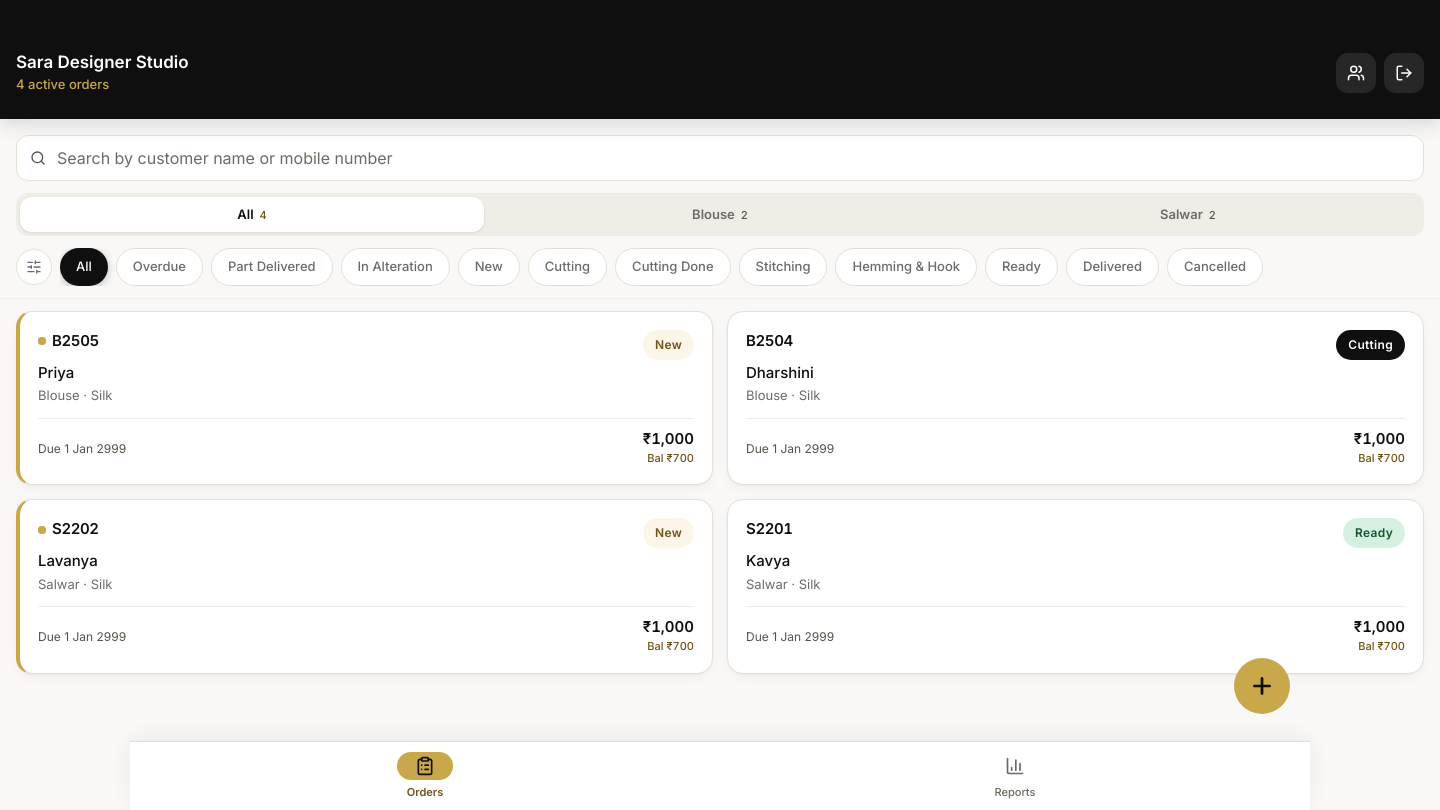
it: OrdersBody › Blouse / Salwar tabs › narrows to one book when its tab is selected
Click the tab "Salwar2".
click(1188, 215)  # box [956, 197, 1420, 232]
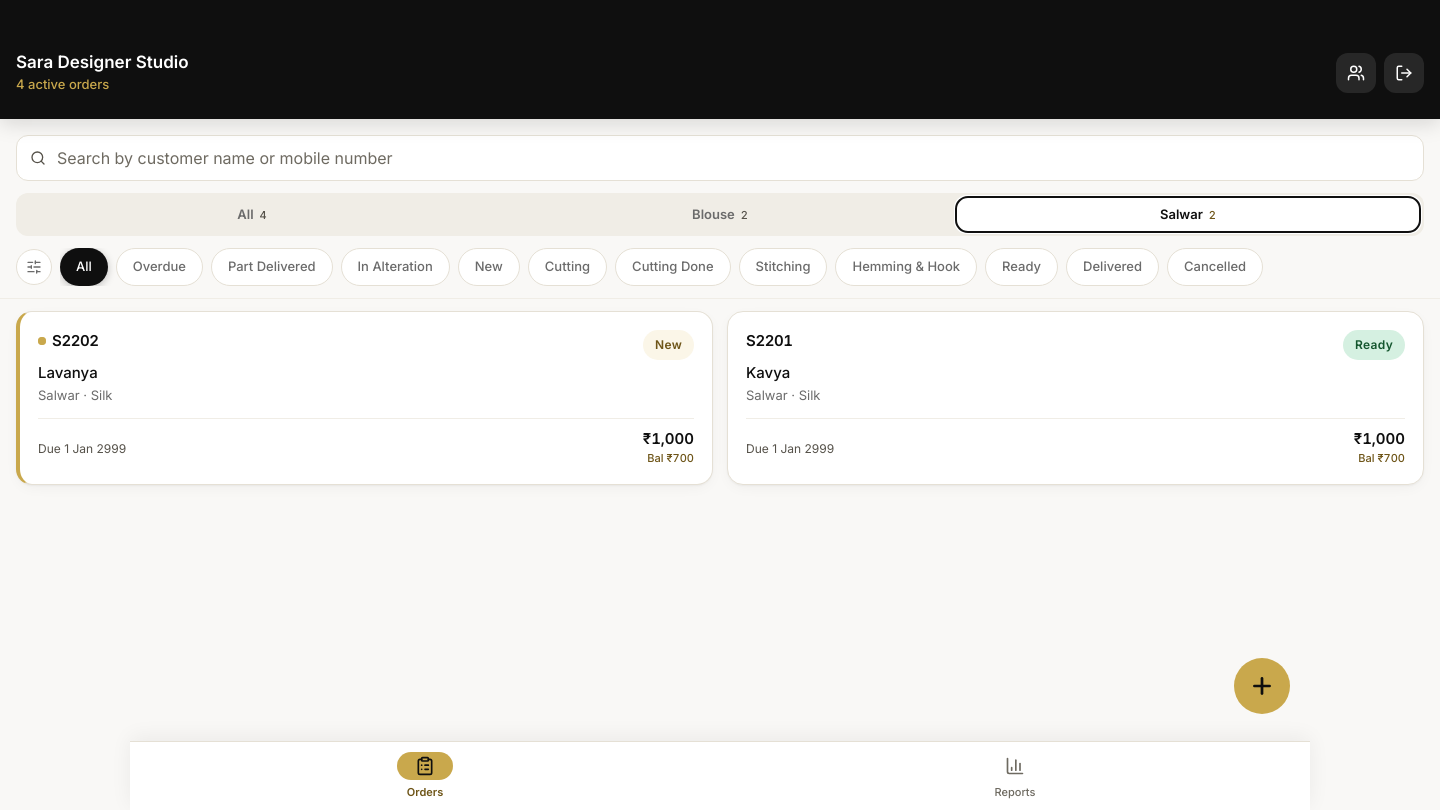
Check: the text "S2202" is shown, box [52, 330, 99, 352]
Check: the button "B2505" is gone
Check: the button "B2504" is gone
Click the tab "Blouse2".
click(720, 215)  # box [488, 197, 952, 232]
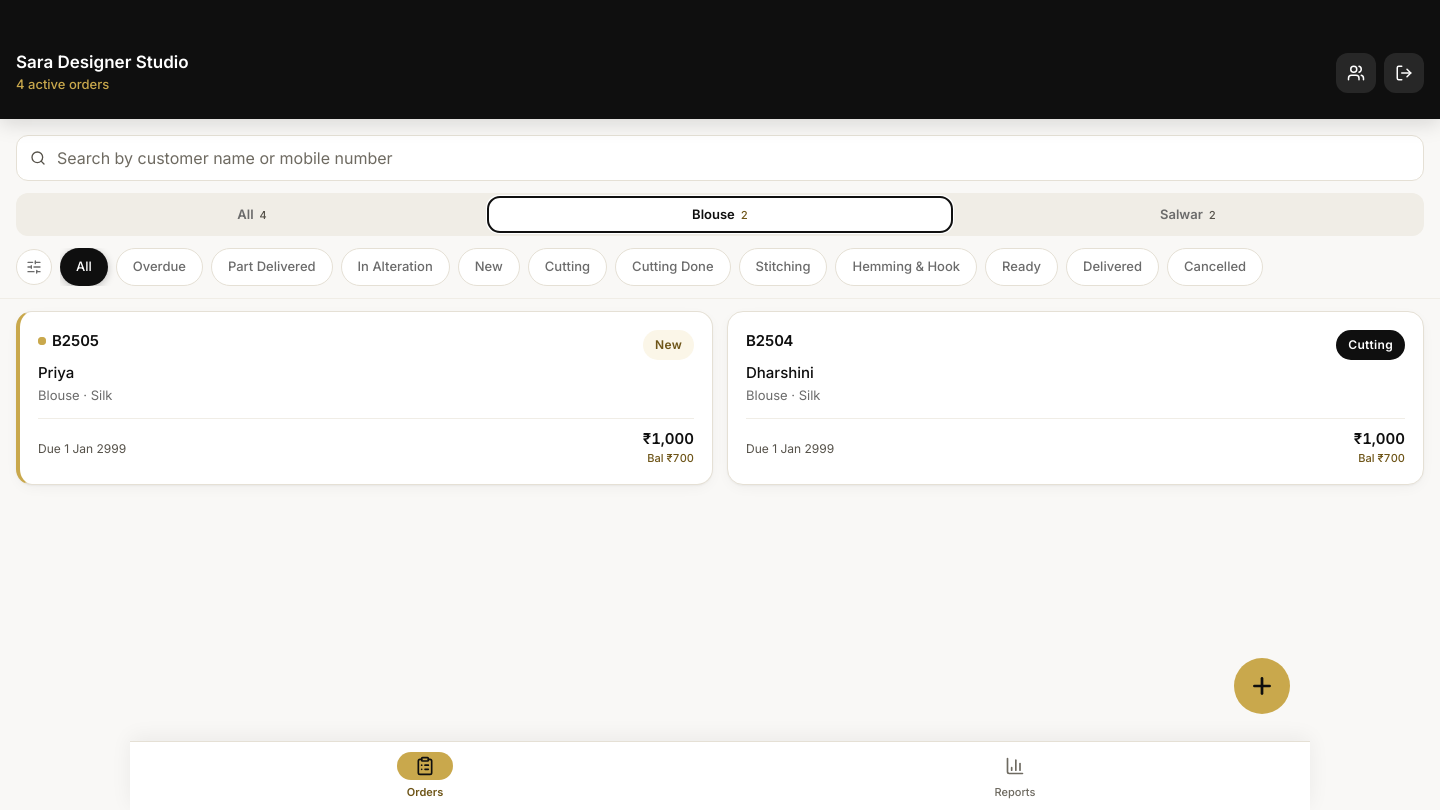
Check: the text "B2505" is shown, box [52, 330, 99, 352]
Check: the button "S2201" is gone
